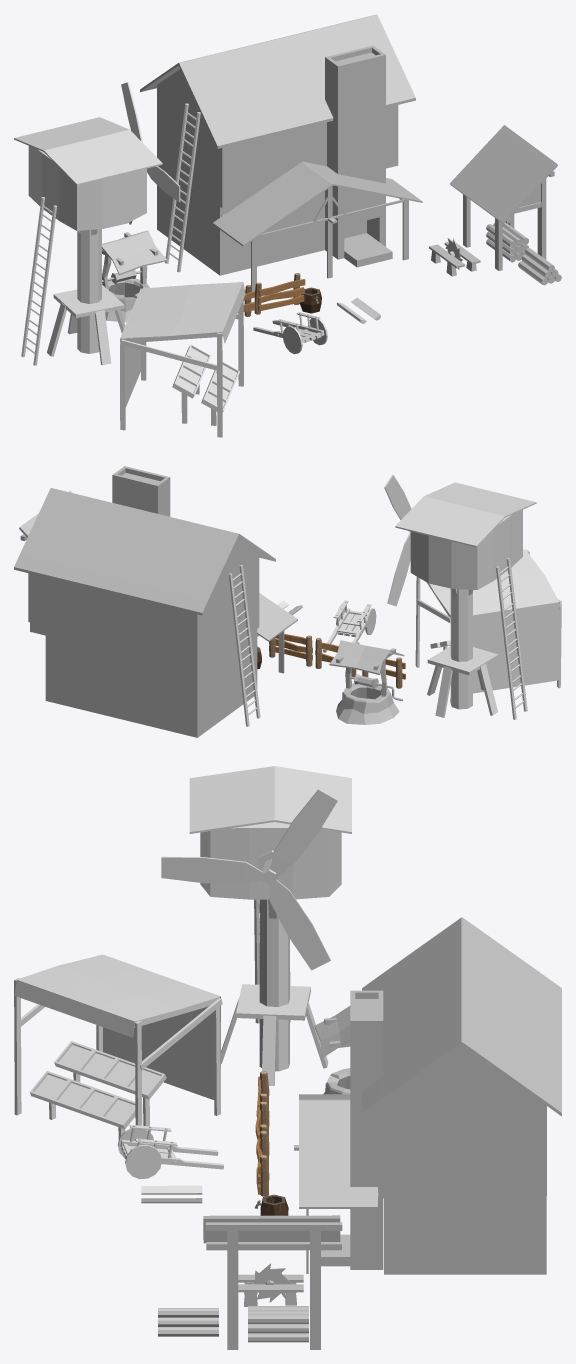
Rendered from MedievalAsset.fbx.
3 renders of one model, top to bottom at view 1: azimuth 30°, elevation 25°; view 2: azimuth 150°, elevation 25°; view 3: azimuth 270°, elevation 25°, orthographic. The views are drawn at different scales.
Visible parts, largest first — view 1: Cube.003, Cylinder.008, Cube.015, Cube.004, Cylinder.024, Cylinder.017, Cylinder.009, Cylinder.002, Cylinder.007, Cylinder.036, Cylinder.026, Cylinder.010 (+1 smaller); view 2: Cube.003, Cylinder.008, Cube.015, Cylinder.024, Cylinder.009, Cylinder.017, Cylinder.007, Cylinder.010, Cylinder.002, Cylinder.003, Cylinder.001; view 3: Cube.003, Cube.015, Cylinder.008, Cube.004, Cylinder.007, Cylinder.036, Cylinder.024, Cylinder.026, Cylinder.010, Cylinder.011, Cylinder.002, Cylinder.
Part boxes in pixels (x1=…): Cube.003: x1=140, y1=14, x2=422, y2=291; Cylinder.008: x1=14, y1=117, x2=162, y2=365; Cube.015: x1=120, y1=281, x2=245, y2=437; Cube.004: x1=429, y1=125, x2=557, y2=276; Cylinder.024: x1=102, y1=230, x2=166, y2=322; Cylinder.017: x1=21, y1=197, x2=56, y2=365; Cylinder.009: x1=165, y1=103, x2=200, y2=272; Cylinder.002: x1=254, y1=273, x2=305, y2=314; Cylinder.007: x1=121, y1=82, x2=180, y2=224; Cylinder.036: x1=486, y1=222, x2=528, y2=262; Cylinder.026: x1=518, y1=248, x2=561, y2=285; Cylinder.010: x1=253, y1=312, x2=324, y2=342; Cube.003: x1=14, y1=466, x2=297, y2=737; Cylinder.008: x1=395, y1=482, x2=536, y2=717; Cube.015: x1=415, y1=549, x2=561, y2=702; Cylinder.024: x1=329, y1=640, x2=404, y2=724; Cylinder.009: x1=228, y1=565, x2=260, y2=726; Cylinder.017: x1=495, y1=558, x2=527, y2=719; Cylinder.007: x1=384, y1=475, x2=411, y2=606; Cylinder.010: x1=322, y1=600, x2=371, y2=652; Cylinder.002: x1=269, y1=634, x2=312, y2=666; Cylinder.003: x1=315, y1=637, x2=356, y2=677; Cylinder.001: x1=362, y1=657, x2=405, y2=688; Cube.003: x1=294, y1=917, x2=561, y2=1274; Cube.015: x1=14, y1=954, x2=222, y2=1140; Cylinder.008: x1=189, y1=766, x2=351, y2=1086; Cube.004: x1=203, y1=1215, x2=342, y2=1349; Cylinder.007: x1=161, y1=789, x2=337, y2=970; Cylinder.036: x1=248, y1=1306, x2=308, y2=1342; Cylinder.024: x1=314, y1=1006, x2=350, y2=1094; Cylinder.026: x1=158, y1=1308, x2=218, y2=1336; Cylinder.010: x1=120, y1=1124, x2=223, y2=1169; Cylinder.011: x1=117, y1=1128, x2=161, y2=1179; Cylinder.002: x1=256, y1=1130, x2=269, y2=1196; Cylinder: x1=247, y1=1263, x2=291, y2=1302.
Bounding box in the file's own units: 22.68 × 11.33 × 16.55.
